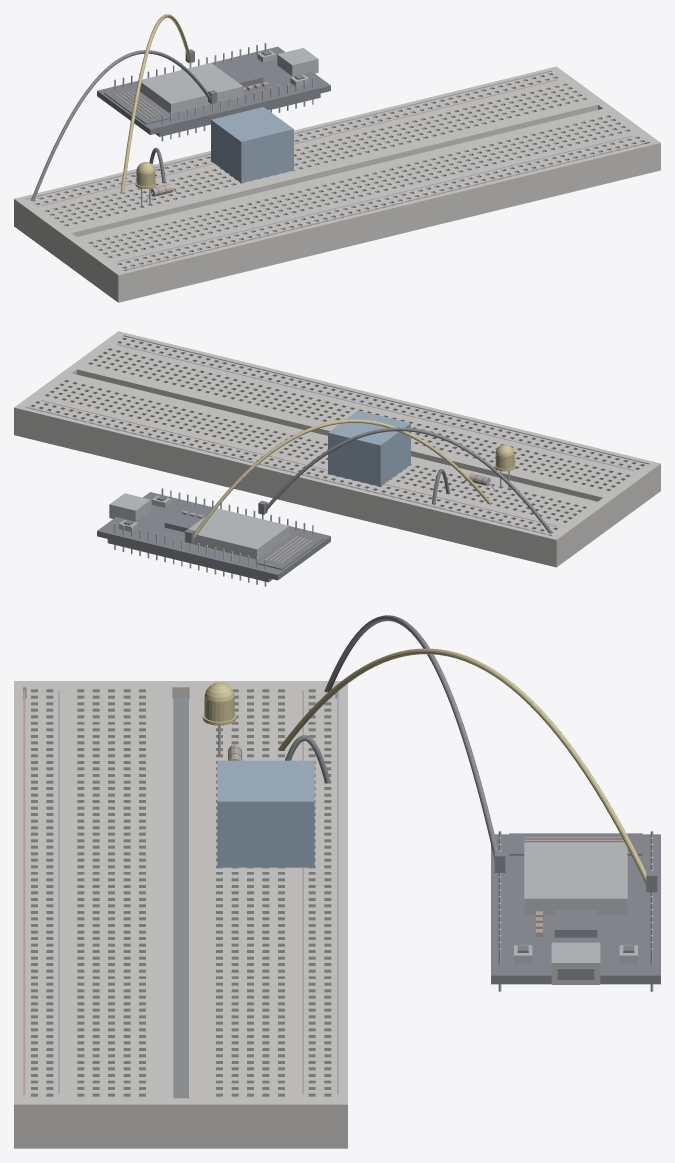
The model's file is step-6.glb.
The picture shows the model from 3 angles, top to bottom: view 1: azimuth 30°, elevation 25°; view 2: azimuth 150°, elevation 25°; view 3: azimuth 270°, elevation 25°; orthographic projection. The views are drawn at different scales.
Visible parts, largest first — view 1: bb1__mesh, uno__mesh, pot1__mesh, w_gnd_rail__mesh, w_led_sig__mesh, led_yellow__mesh; view 2: bb1__mesh, uno__mesh, pot1__mesh, w_led_sig__mesh, w_gnd_rail__mesh, led_yellow__mesh; view 3: bb1__mesh, uno__mesh, pot1__mesh, w_led_sig__mesh, w_gnd_rail__mesh, led_yellow__mesh.
Boxes of the visible parts, x1,y1,x2,y2 form: bb1__mesh: [14, 66, 660, 302]; uno__mesh: [97, 42, 330, 141]; pot1__mesh: [211, 107, 293, 183]; w_gnd_rail__mesh: [31, 50, 217, 200]; w_led_sig__mesh: [120, 14, 194, 192]; led_yellow__mesh: [135, 162, 156, 207]; bb1__mesh: [14, 331, 660, 567]; uno__mesh: [97, 488, 330, 586]; pot1__mesh: [328, 410, 410, 487]; w_led_sig__mesh: [185, 419, 491, 543]; w_gnd_rail__mesh: [258, 427, 551, 532]; led_yellow__mesh: [494, 444, 515, 489]; bb1__mesh: [14, 681, 347, 1148]; uno__mesh: [491, 831, 660, 991]; pot1__mesh: [217, 760, 314, 868]; w_led_sig__mesh: [278, 648, 657, 892]; w_gnd_rail__mesh: [325, 615, 505, 872]; led_yellow__mesh: [202, 682, 236, 756].
Bounding box in the file's own units: 0.165 × 0.0379 × 0.1065.
